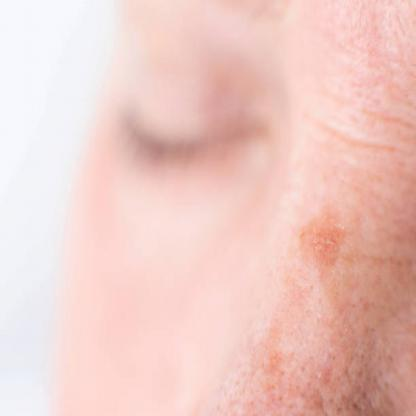darkspot: (298, 209, 394, 407), (251, 302, 287, 411)
wrinkle: (333, 33, 411, 166)
